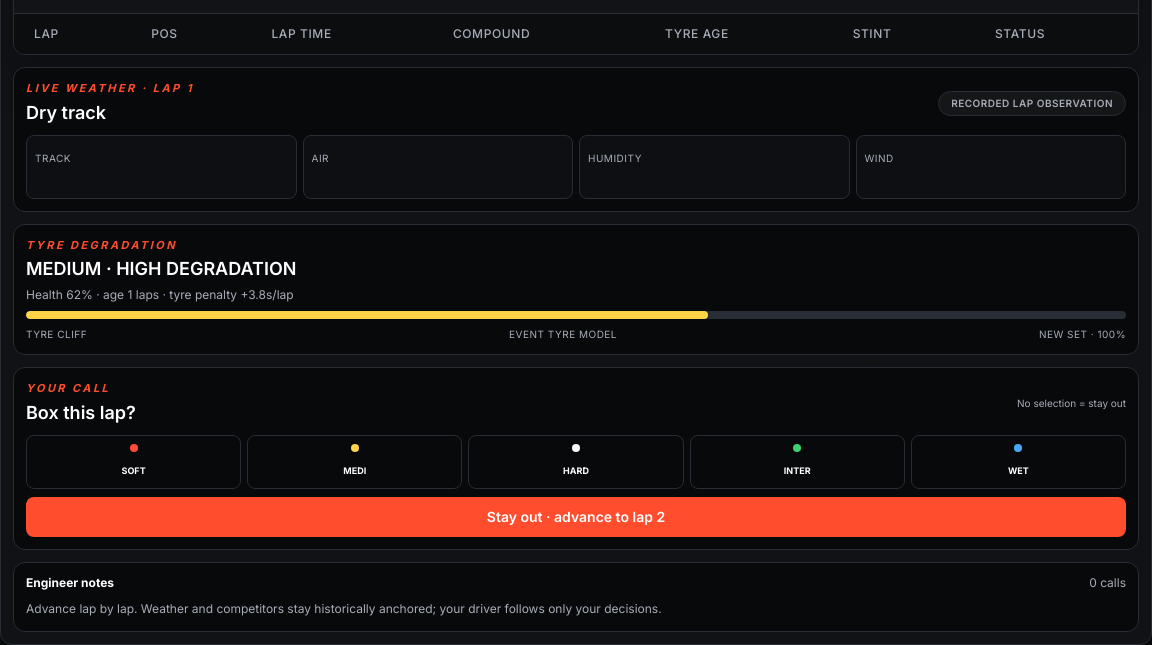
ends engineer control on an early chequered crossing
(page scrolled)
Click the button "Stay out · advance to lap 2" at (576, 516), box [26,496,1126,536]
(page scrolled)
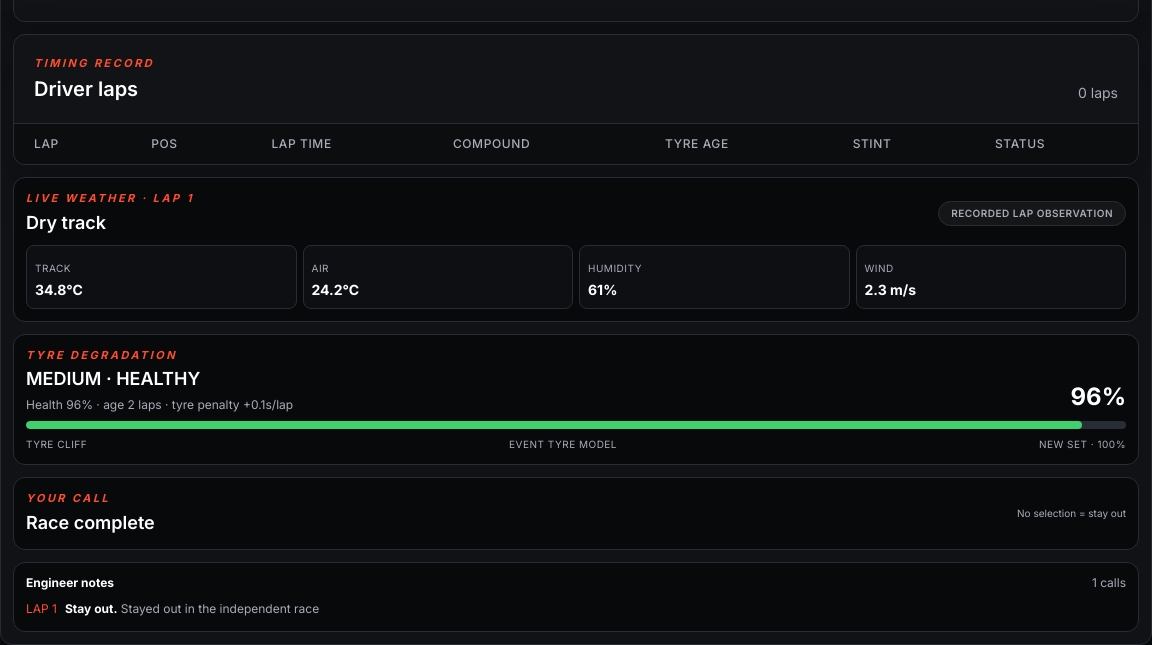
Result: the heading "Race complete" is shown at [26,508,155,536]
Result: the button "advance to lap" is gone
